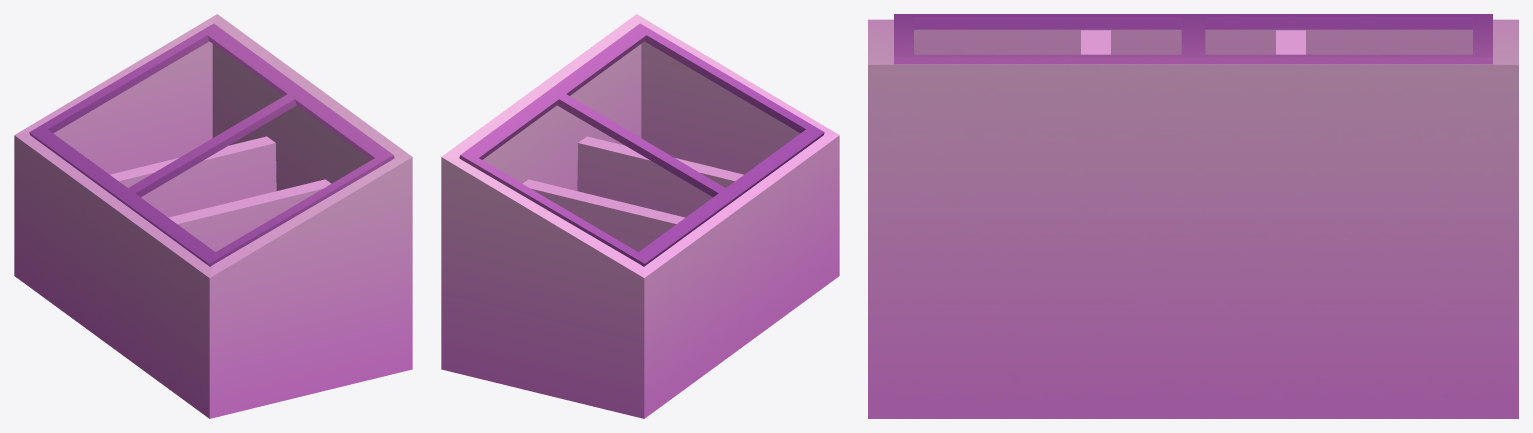
Rendered from Freezer.fbx.
The picture shows the model from 3 angles, left to right: view 1: azimuth 30°, elevation 25°; view 2: azimuth 150°, elevation 25°; view 3: azimuth 270°, elevation 25°; orthographic projection. The views are drawn at different scales.
Visible parts, largest first — view 1: Freezer; view 2: Freezer; view 3: Freezer.
Boxes of the visible parts, <box> form: Freezer: <box>14,14,412,418</box>; Freezer: <box>441,14,839,418</box>; Freezer: <box>868,14,1518,418</box>.
Size of the model in its own units: 120 by 200 by 120.
